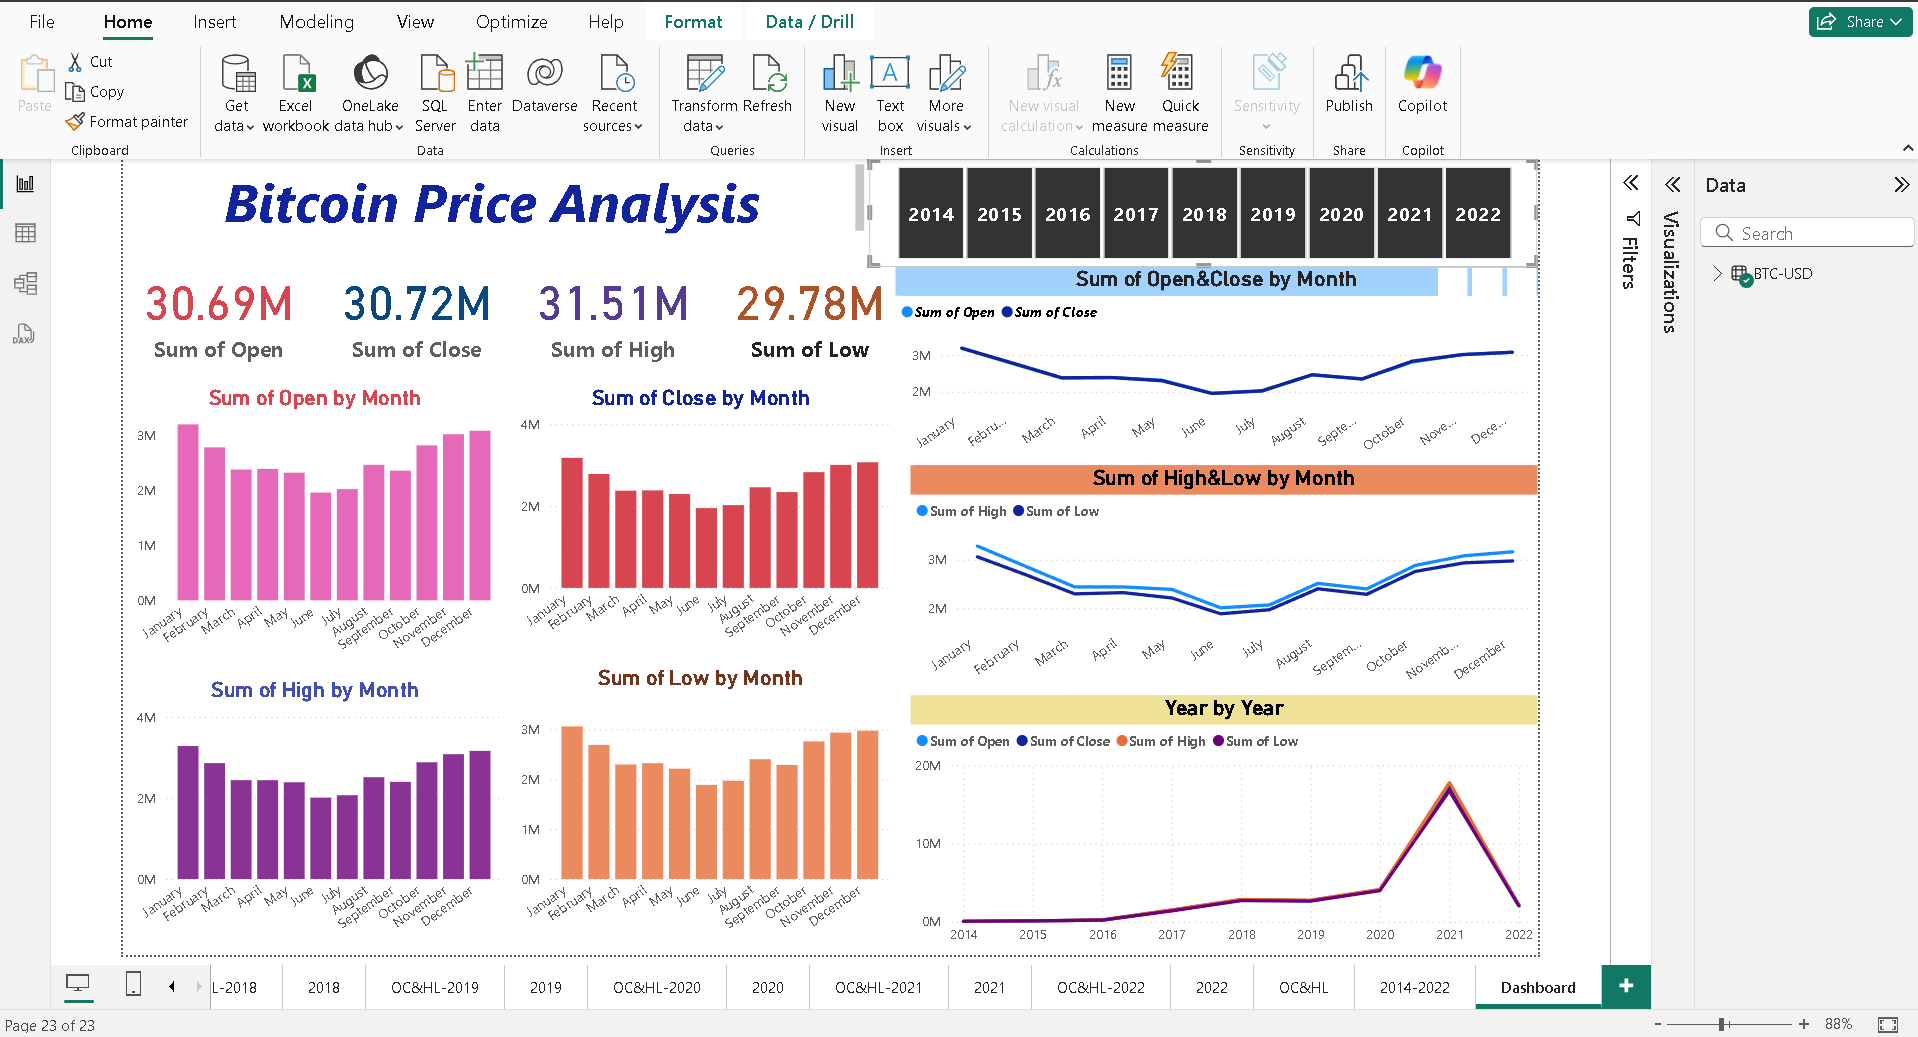

This screenshot's page, from the dashboard's own definition file:
{"tool":"powerbi","page":{"name":"Dashboard","canvas":[1280,720],"ordinal":22},"visuals":[{"type":"card","fields":{"Values":["Sum(BTC-USD.Open)"]},"box":[0,72.5,173.8,132.5],"z":0},{"type":"textbox","box":[0,0,675,72.5],"z":1000},{"type":"card","fields":{"Values":["Sum(BTC-USD.Close)"]},"box":[173.8,72.5,183.8,132.5],"z":2000},{"type":"card","fields":{"Values":["Sum(BTC-USD.Low)"]},"box":[530,72.5,182.5,132.5],"z":3000},{"type":"card","fields":{"Values":["Sum(BTC-USD.High)"]},"box":[357.5,72.5,172.5,132.5],"z":4000},{"type":"columnChart","fields":{"Category":["BTC-USD.Date.Variation.Date Hierarchy.Month"],"Y":["Sum(BTC-USD.Open)"]},"box":[0,205,347.5,263.8],"z":5000},{"type":"columnChart","fields":{"Category":["BTC-USD.Date.Variation.Date Hierarchy.Month"],"Y":["Sum(BTC-USD.Close)"]},"box":[347.5,205,351.2,252.5],"z":6000},{"type":"columnChart","fields":{"Category":["BTC-USD.Date.Variation.Date Hierarchy.Month"],"Y":["Sum(BTC-USD.High)"]},"box":[0,468.8,347.5,251.2],"z":7000},{"type":"columnChart","fields":{"Category":["BTC-USD.Date.Variation.Date Hierarchy.Month"],"Y":["Sum(BTC-USD.Low)"]},"box":[347.5,457.5,351.2,262.5],"z":8000},{"type":"slicer","fields":{"Values":["BTC-USD.Date.Variation.Date Hierarchy.Year"]},"box":[675,0,605,97.5],"z":9000},{"type":"lineChart","title":"Sum of Open&Close by Month","fields":{"Category":["BTC-USD.Date.Variation.Date Hierarchy.Month"],"Y":["Sum(BTC-USD.Open)","Sum(BTC-USD.Close)"]},"box":[698.8,97.5,581.2,180],"z":10000},{"type":"lineChart","title":"Sum of High&Low by Month","fields":{"Y":["Sum(BTC-USD.High)","Sum(BTC-USD.Low)"],"Category":["BTC-USD.Date.Variation.Date Hierarchy.Month"]},"box":[712.5,277.5,567.5,207.5],"z":11000},{"type":"lineChart","title":"Year by Year","fields":{"Y":["Sum(BTC-USD.Open)","Sum(BTC-USD.Close)","Sum(BTC-USD.High)","Sum(BTC-USD.Low)"],"Category":["BTC-USD.Date.Variation.Date Hierarchy.Year"]},"box":[712.5,485,567.5,235],"z":12000}]}

Visuals, with their boxes on the page's 1280x720 design canvas (x1, y1, x2, y2). These are canvas units, not pixel positions in the 1918x1037 screenshot, which may show the page scaled, cropped or inside an application window:
card - Sum(BTC-USD.Open): x1=0 y1=72 x2=174 y2=205
textbox: x1=0 y1=0 x2=675 y2=72
card - Sum(BTC-USD.Close): x1=174 y1=72 x2=358 y2=205
card - Sum(BTC-USD.Low): x1=530 y1=72 x2=712 y2=205
card - Sum(BTC-USD.High): x1=358 y1=72 x2=530 y2=205
columnChart - BTC-USD.Date.Variation.Date Hierarchy.Month x Sum(BTC-USD.Open): x1=0 y1=205 x2=348 y2=469
columnChart - BTC-USD.Date.Variation.Date Hierarchy.Month x Sum(BTC-USD.Close): x1=348 y1=205 x2=699 y2=458
columnChart - BTC-USD.Date.Variation.Date Hierarchy.Month x Sum(BTC-USD.High): x1=0 y1=469 x2=348 y2=720
columnChart - BTC-USD.Date.Variation.Date Hierarchy.Month x Sum(BTC-USD.Low): x1=348 y1=458 x2=699 y2=720
slicer - BTC-USD.Date.Variation.Date Hierarchy.Year: x1=675 y1=0 x2=1280 y2=98
"Sum of Open&Close by Month" lineChart: x1=699 y1=98 x2=1280 y2=278
"Sum of High&Low by Month" lineChart: x1=712 y1=278 x2=1280 y2=485
"Year by Year" lineChart: x1=712 y1=485 x2=1280 y2=720
